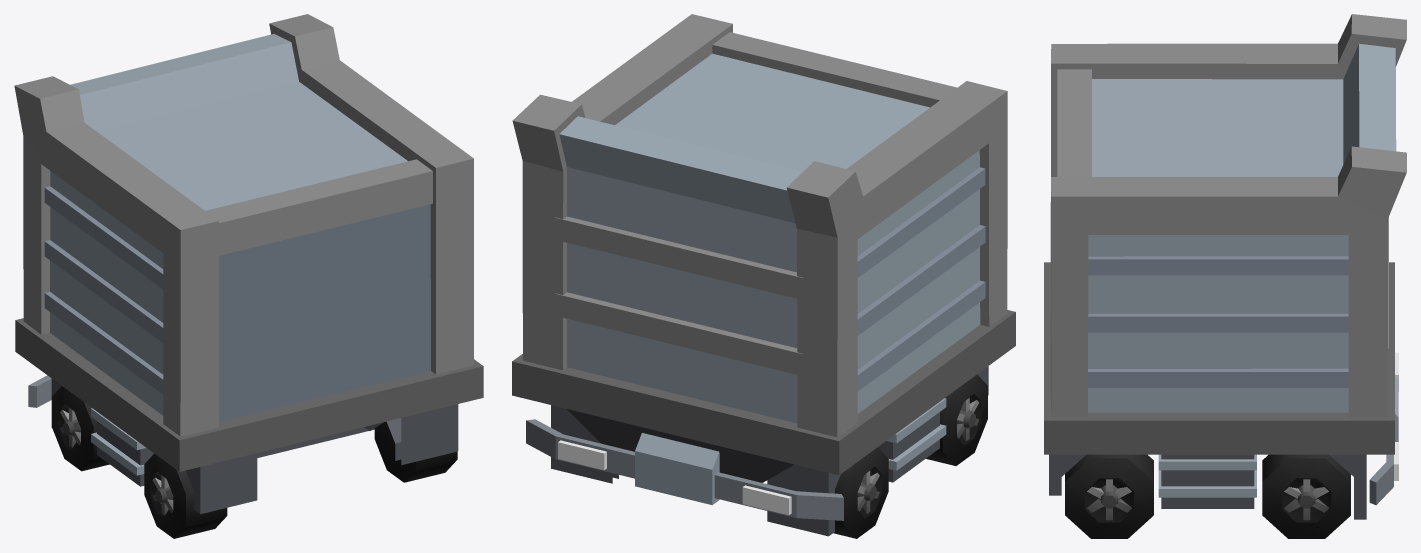
The model's file is cargo_01_C_2.fbx.
3 views of the same model, side by side, from view 1: azimuth 30°, elevation 25°; view 2: azimuth 150°, elevation 25°; view 3: azimuth 270°, elevation 25° (orthographic). The views are drawn at different scales.
Parts seen in each view (by area): view 1: cargo_01_C_2; view 2: cargo_01_C_2; view 3: cargo_01_C_2.
Part boxes in pixels (bbox=[...]): cargo_01_C_2: bbox=[14, 14, 483, 538]; cargo_01_C_2: bbox=[512, 14, 1015, 538]; cargo_01_C_2: bbox=[1044, 14, 1406, 538].
Bounding box in the file's own units: 14.03 × 15.6 × 13.57.
